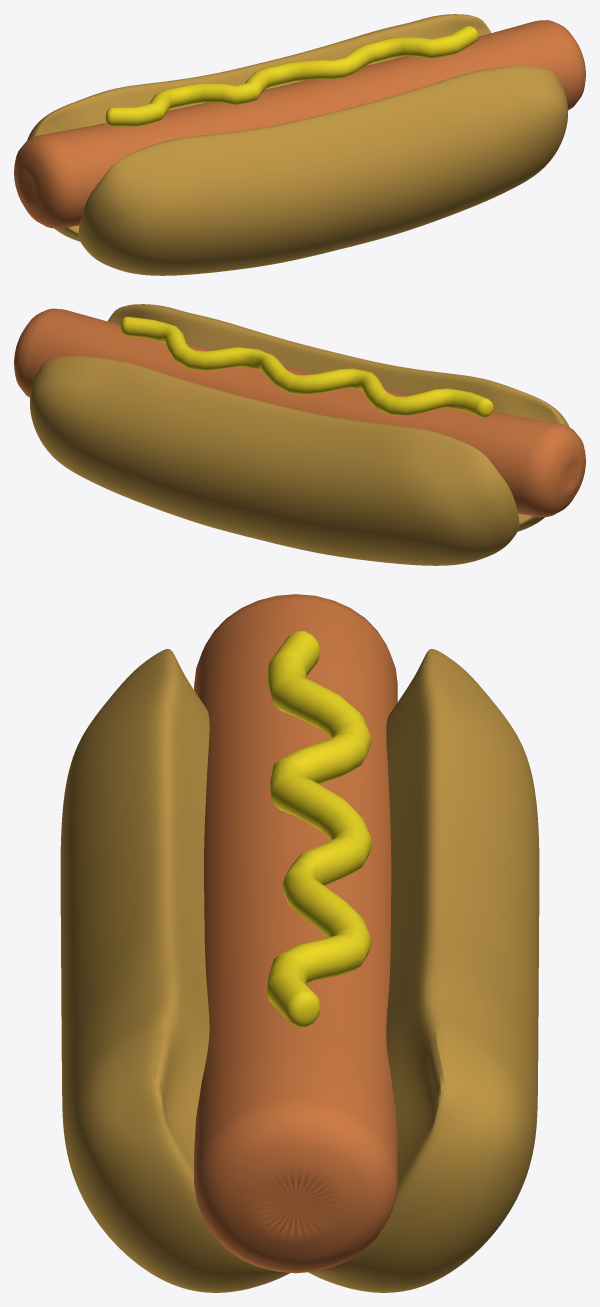
The model's file is hotdog.glb.
3 renders of one model, top to bottom at view 1: azimuth 30°, elevation 25°; view 2: azimuth 150°, elevation 25°; view 3: azimuth 270°, elevation 25°, orthographic. The views are drawn at different scales.
Visible parts, largest first — view 1: BUN, SAUSGE, Mustard; view 2: BUN, SAUSGE, Mustard; view 3: BUN, SAUSGE, Mustard.
Boxes of the visible parts, x1,y1,x2,y2 form: BUN: (27, 14, 567, 275); SAUSGE: (14, 20, 585, 228); Mustard: (105, 26, 478, 126); BUN: (30, 304, 569, 565); SAUSGE: (14, 308, 585, 517); Mustard: (120, 316, 493, 416); BUN: (60, 649, 539, 1292); SAUSGE: (194, 594, 397, 1273); Mustard: (266, 631, 372, 1027).
Bounding box in the file's own units: 26.27 × 7.68 × 9.97.
